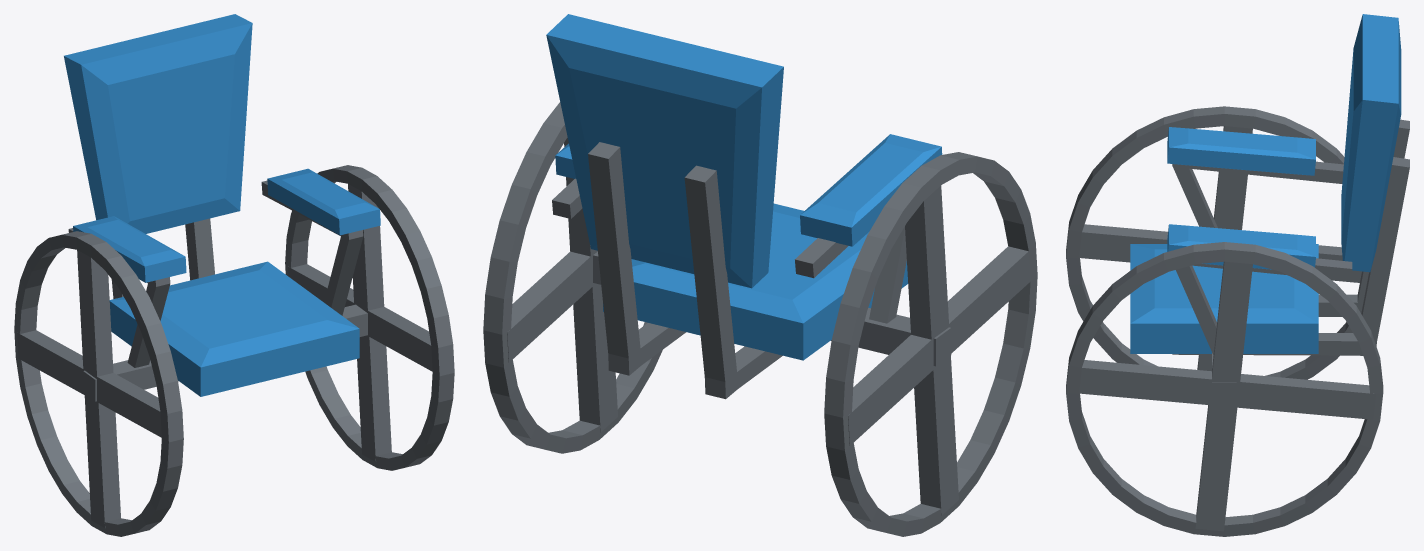
Rendered from wheelchair.fbx.
The picture shows the model from 3 angles, left to right: view 1: azimuth 30°, elevation 25°; view 2: azimuth 150°, elevation 25°; view 3: azimuth 270°, elevation 25°; orthographic projection. The views are drawn at different scales.
Parts seen in each view (by area): view 1: Cube.001, Cylinder.001, Cylinder, Cube, Cube.008, Cube.009, Cube.007, Cube.005, Cube.002, Cube.006; view 2: Cylinder.001, Cube.001, Cylinder, Cube, Cube.002, Cube.004, Cube.009, Cube.006, Cube.005, Cube.007; view 3: Cylinder, Cylinder.001, Cube, Cube.001, Cube.009, Cube.002, Cube.008, Cube.006, Cube.007, Cube.004, Cube.005.
Boxes of the visible parts, left/top/right/bottom form: Cube.001: left=64, top=14, right=252, bottom=233; Cylinder.001: left=14, top=231, right=183, bottom=536; Cylinder: left=285, top=165, right=454, bottom=470; Cube: left=109, top=261, right=359, bottom=396; Cube.008: left=267, top=168, right=380, bottom=235; Cube.009: left=73, top=216, right=186, bottom=282; Cube.007: left=261, top=180, right=363, bottom=315; Cube.005: left=83, top=304, right=367, bottom=401; Cube.002: left=185, top=218, right=214, bottom=280; Cube.006: left=68, top=228, right=170, bottom=367; Cylinder.001: left=824, top=152, right=1037, bottom=536; Cube.001: left=546, top=14, right=783, bottom=288; Cylinder: left=483, top=102, right=662, bottom=453; Cube: left=603, top=203, right=908, bottom=360; Cube.002: left=588, top=142, right=686, bottom=375; Cube.004: left=684, top=165, right=782, bottom=399; Cube.009: left=800, top=134, right=942, bottom=246; Cube.006: left=794, top=226, right=906, bottom=323; Cube.005: left=593, top=252, right=951, bottom=366; Cube.007: left=552, top=178, right=582, bottom=218; Cylinder: left=1066, top=242, right=1383, bottom=536; Cylinder.001: left=1066, top=106, right=1361, bottom=379; Cube: left=1130, top=244, right=1318, bottom=353; Cube.001: left=1341, top=14, right=1401, bottom=272; Cube.009: left=1167, top=127, right=1315, bottom=175; Cube.002: left=1172, top=157, right=1409, bottom=355; Cube.008: left=1167, top=224, right=1315, bottom=269; Cube.006: left=1172, top=161, right=1343, bottom=227; Cube.007: left=1176, top=258, right=1352, bottom=355; Cube.004: left=1318, top=119, right=1409, bottom=316; Cube.005: left=1212, top=353, right=1236, bottom=405.
Size of the model in its own units: 338 by 444 by 339.
